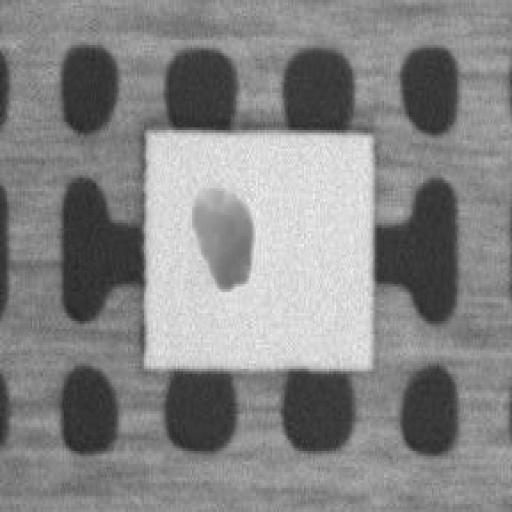DIE_INK: (187, 180, 249, 286)
